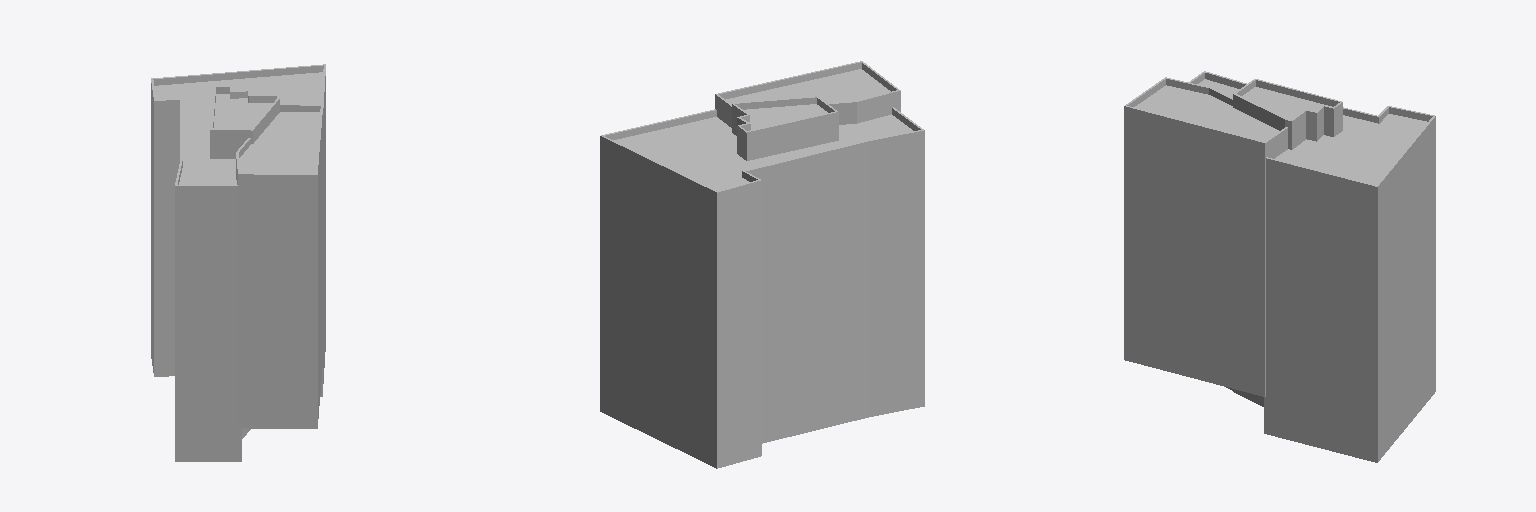
File: office_8.obj
The picture shows the model from 3 angles: view 1: azimuth 30°, elevation 25°; view 2: azimuth 150°, elevation 25°; view 3: azimuth 270°, elevation 25°; orthographic projection.
Parts seen in each view (by area): view 1: object_1; view 2: object_1; view 3: object_1.
Boxes of the visible parts, x1,y1,x2,y2 form: object_1: [151, 64, 325, 461]; object_1: [600, 61, 924, 468]; object_1: [1124, 71, 1435, 462].
Size of the model in its own units: 113 by 135 by 128.